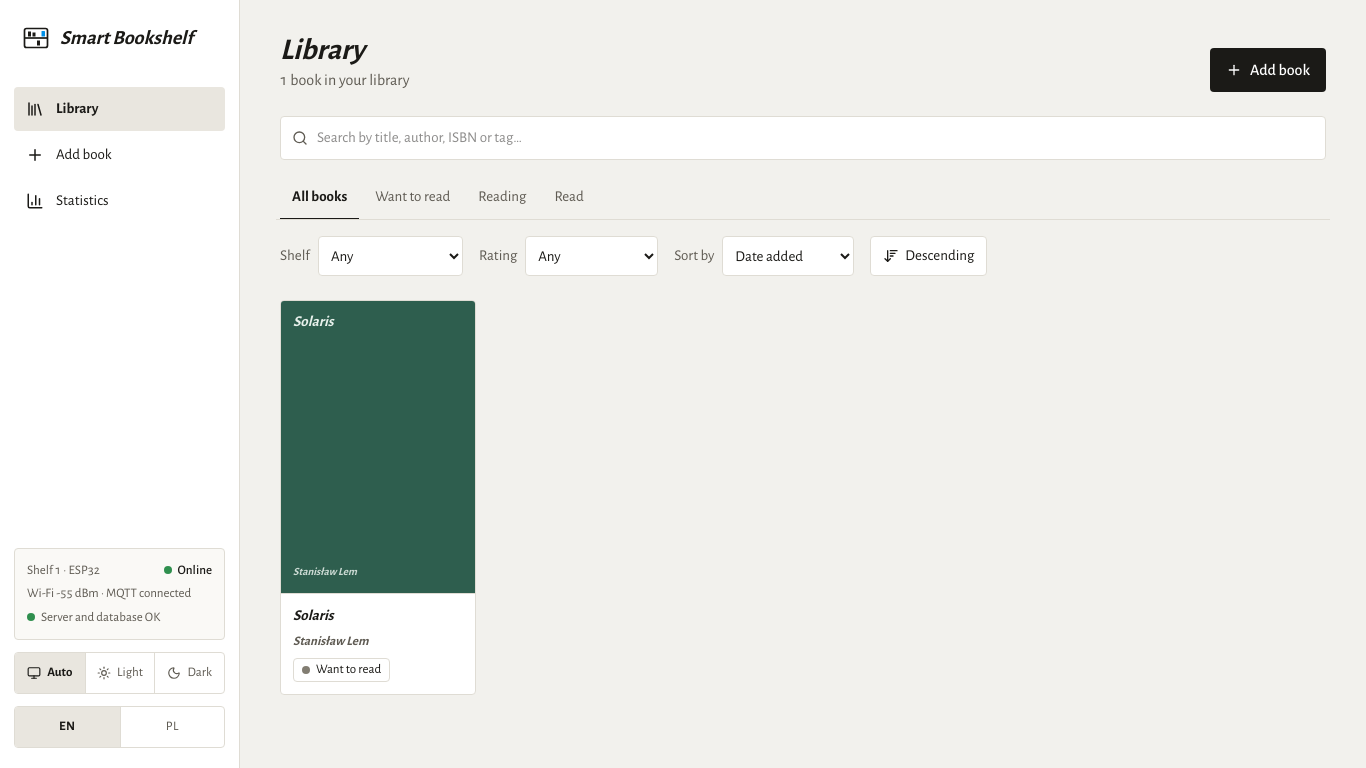
Test case: LibraryPage › searches after the user stops typing and offers relevance sorting
This screenshot has width=1366, height=768.
Expected: the heading "Solaris" is shown, [293, 608, 334, 623]
Type "lem" into the search field named "Search books" at [803, 138], box [280, 116, 1326, 160]
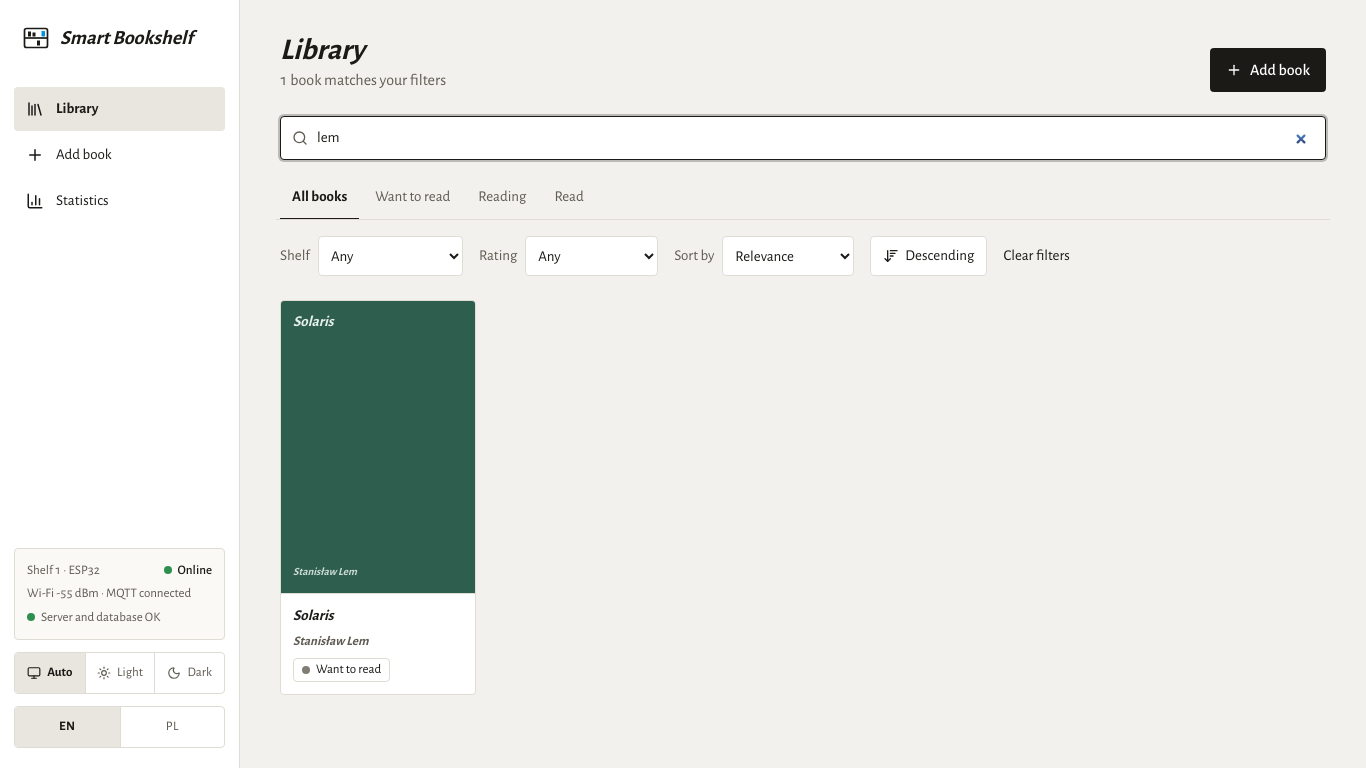
Expected: the dropdown labelled "Sort by" shows "Relevance", [722, 236, 854, 276]
